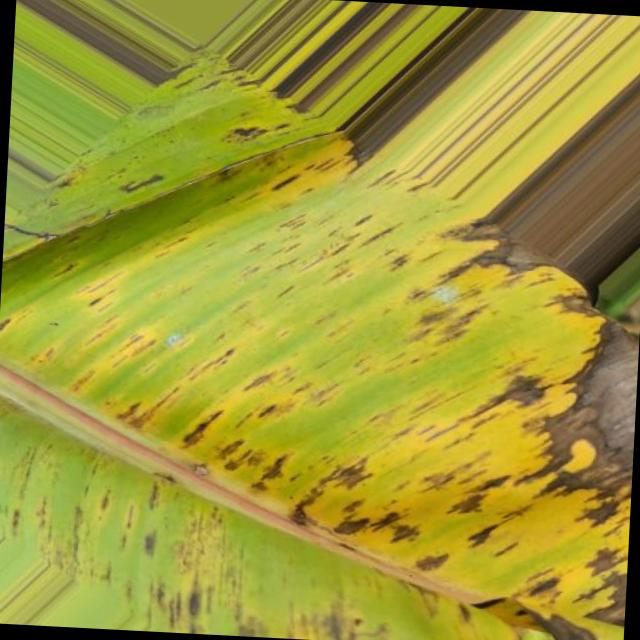Banana_Black_Sigatoka: (114, 338, 463, 602), (453, 216, 640, 640), (193, 104, 418, 292)
